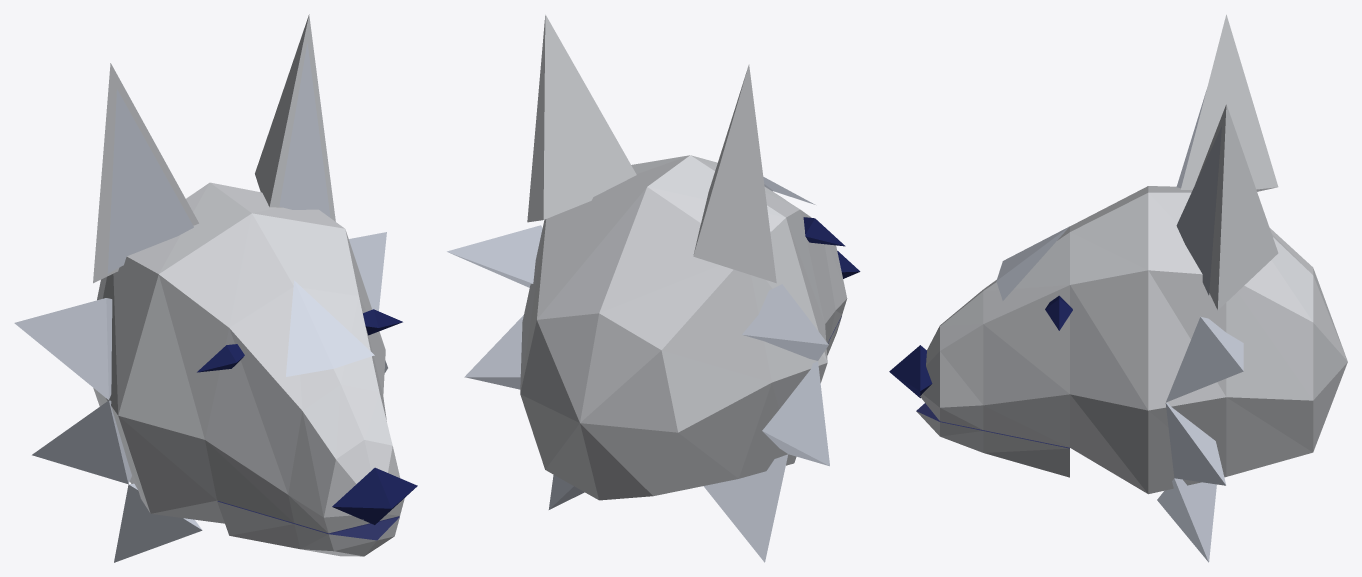
File: wolf.glb
3 renders of one model, left to right at view 1: azimuth 30°, elevation 25°; view 2: azimuth 150°, elevation 25°; view 3: azimuth 270°, elevation 25°, orthographic. The views are drawn at different scales.
Visible parts, largest first — view 1: head, ruff, ear_inner, ears, snout_bridge, jaw_fur, nose, jaw_mouth_floor, eye_left, eye_right; view 2: head, ears, ruff, eye_left; view 3: head, ears, ruff, ear_inner, jaw_fur, snout_bridge, nose.
Part boxes in pixels (x1=…): head: x1=93, y1=182, x2=404, y2=533; ruff: x1=14, y1=232, x2=387, y2=562; ear_inner: x1=107, y1=42, x2=330, y2=273; ears: x1=93, y1=14, x2=335, y2=283; snout_bridge: x1=286, y1=280, x2=374, y2=376; jaw_fur: x1=217, y1=501, x2=399, y2=556; nose: x1=332, y1=467, x2=417, y2=524; jaw_mouth_floor: x1=217, y1=501, x2=399, y2=540; eye_left: x1=197, y1=344, x2=244, y2=372; eye_right: x1=363, y1=309, x2=402, y2=335; head: x1=520, y1=155, x2=847, y2=500; ears: x1=527, y1=14, x2=776, y2=283; ruff: x1=447, y1=225, x2=829, y2=562; eye_left: x1=803, y1=217, x2=845, y2=246; head: x1=920, y1=186, x2=1347, y2=494; ears: x1=1180, y1=14, x2=1278, y2=310; ruff: x1=1157, y1=316, x2=1243, y2=562; ear_inner: x1=1176, y1=90, x2=1221, y2=295; jaw_fur: x1=916, y1=411, x2=1069, y2=477; snout_bridge: x1=996, y1=226, x2=1069, y2=300; nose: x1=889, y1=345, x2=932, y2=398.
Size of the model in its own units: 0.92 by 1.16 by 1.06.
